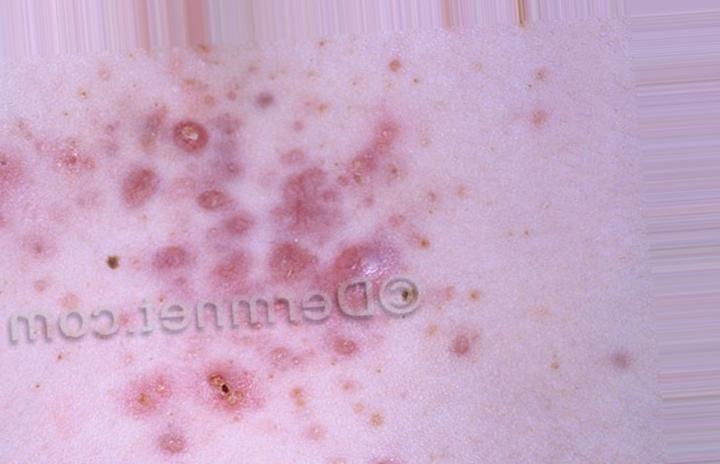Acne: (42, 100, 489, 453)
